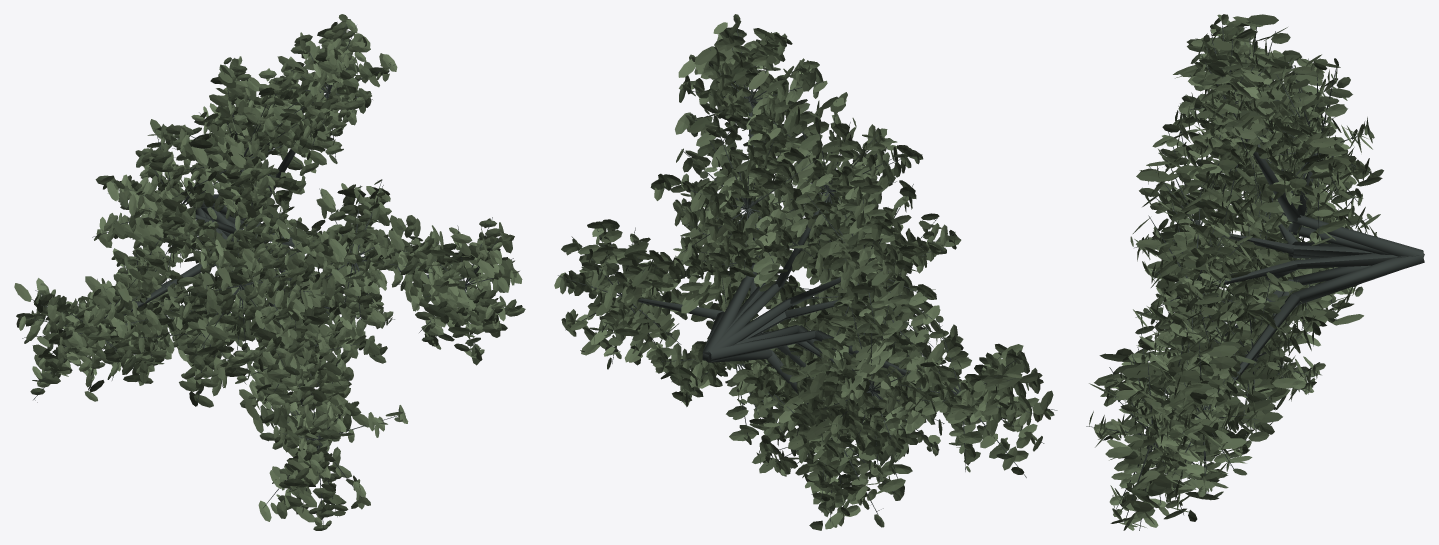
File: tree_m13.obj
3 renders of one model, left to right at view 1: azimuth 30°, elevation 25°; view 2: azimuth 150°, elevation 25°; view 3: azimuth 270°, elevation 25°, orthographic. The views are drawn at different scales.
Size of the model in its own units: 1.89 by 1.78 by 1.04.
1 material, 1 textured.
